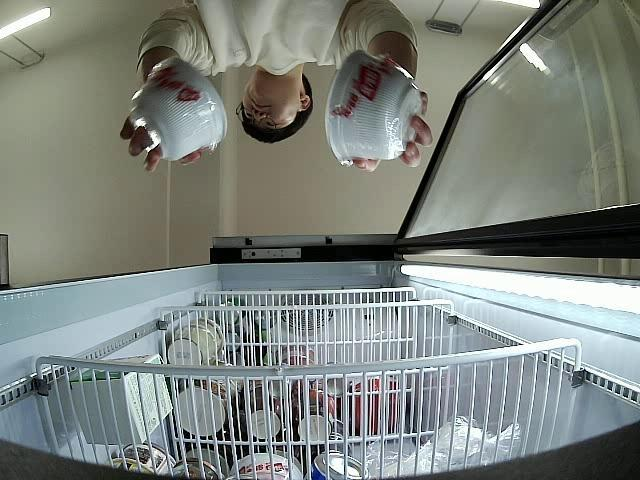09_yukGaeJang: (325, 50, 422, 166), (127, 58, 228, 162)
